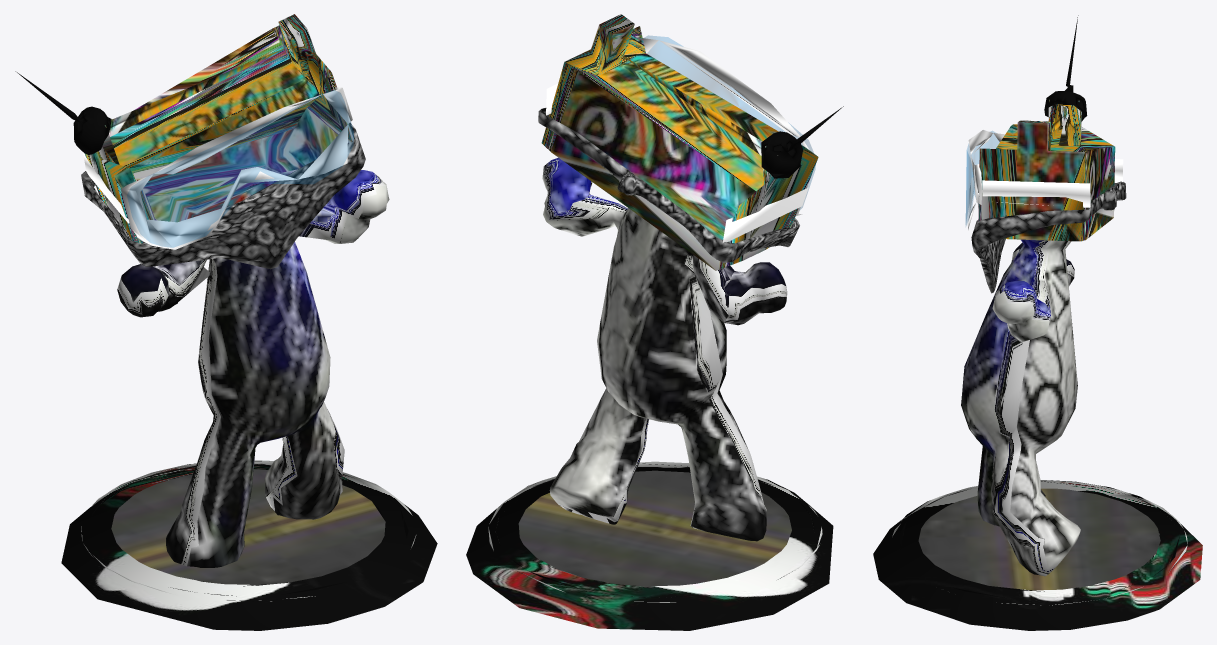
3 renders of one model, left to right at view 1: azimuth 30°, elevation 25°; view 2: azimuth 150°, elevation 25°; view 3: azimuth 270°, elevation 25°, orthographic. The views are drawn at different scales.
Bounding box in the file's own units: 1.66 × 2.19 × 1.43.
Materials: 9 (5 with a texture image).
